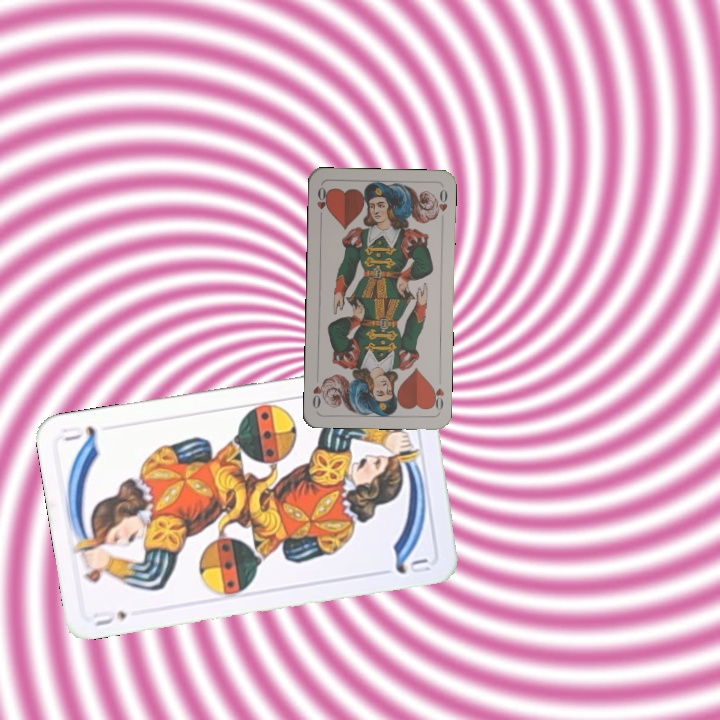HO: (427, 373, 447, 413), (313, 183, 331, 223)
SU: (89, 606, 130, 629)
